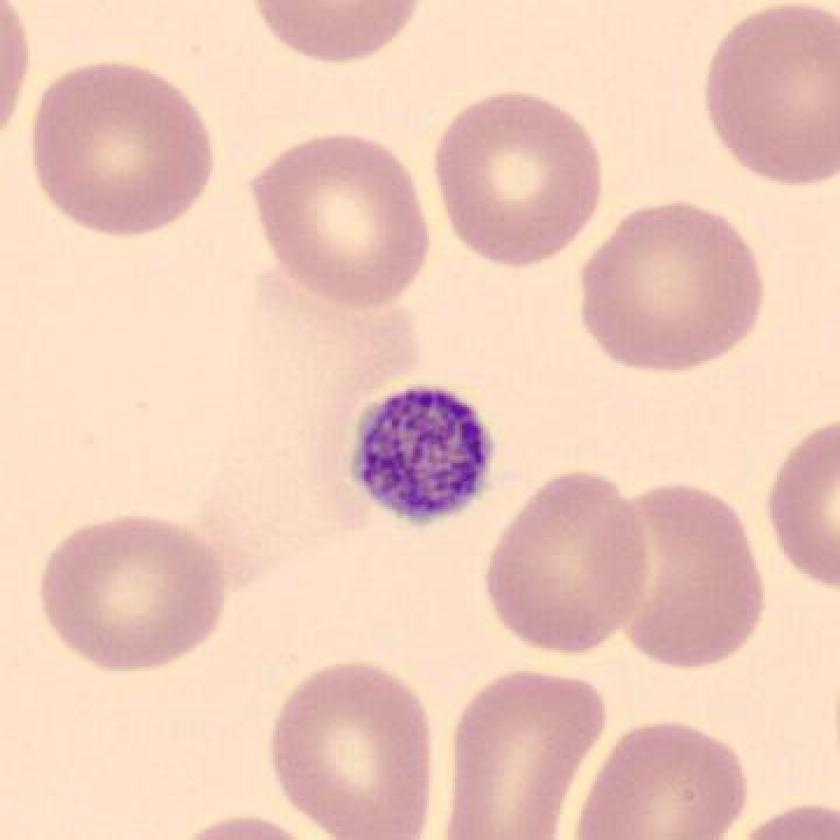platelets: (353, 381, 505, 529)
